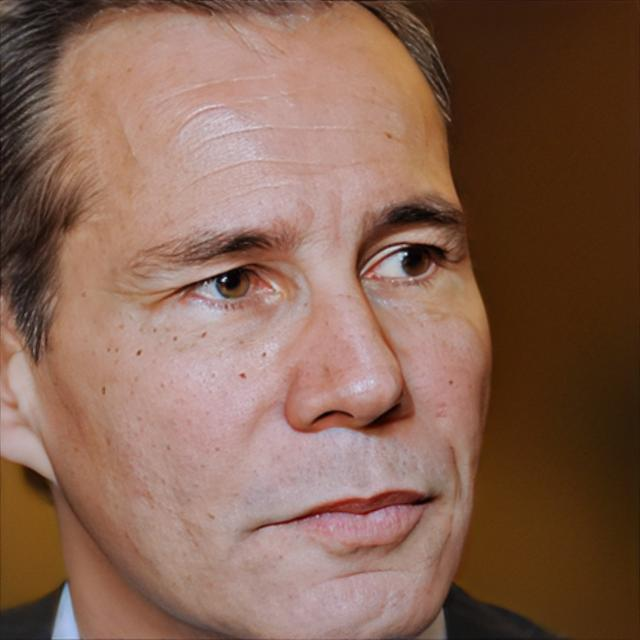neutral: (59, 1, 494, 640)
